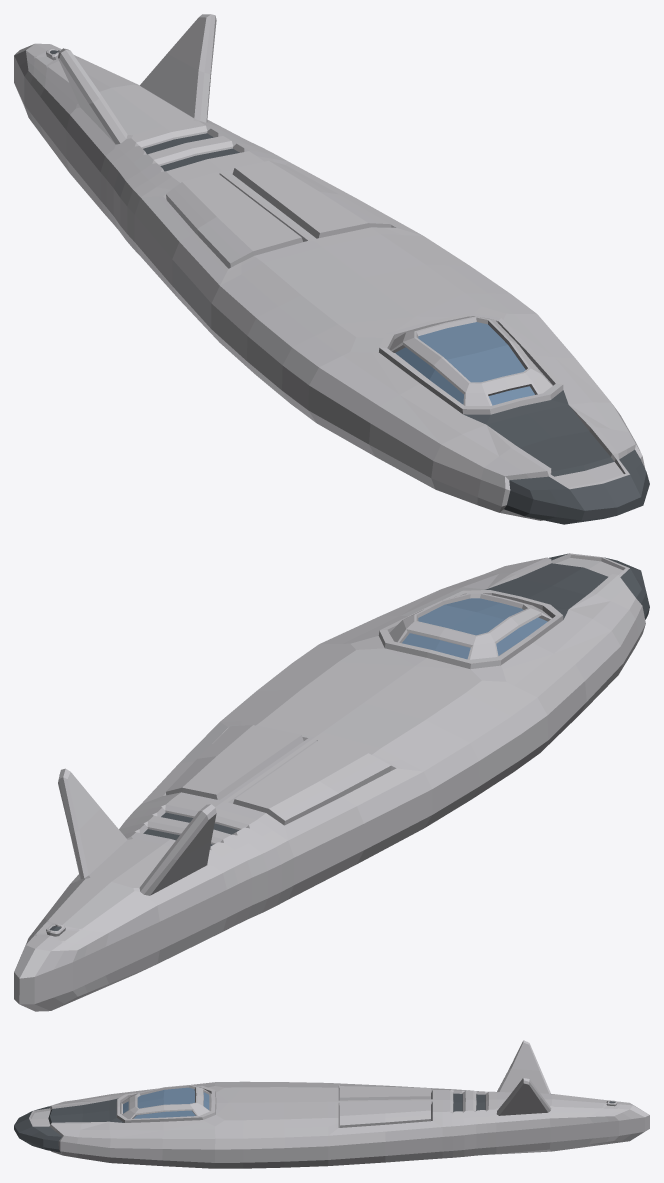
Rendered from Fighter_02_Body.fbx.
3 views of the same model, one above another, from view 1: azimuth 30°, elevation 25°; view 2: azimuth 150°, elevation 25°; view 3: azimuth 270°, elevation 25° (orthographic). The views are drawn at different scales.
Visible parts, largest first — view 1: Fighter_02_Body; view 2: Fighter_02_Body; view 3: Fighter_02_Body.
Part boxes in pixels (x1,y1,x2,y2): Fighter_02_Body: (14,14,649,524); Fighter_02_Body: (14,553,649,1011); Fighter_02_Body: (14,1040,649,1168).
Size of the model in its own units: 300 by 198 by 1294.
Materials: 3 (3 with a texture image).
